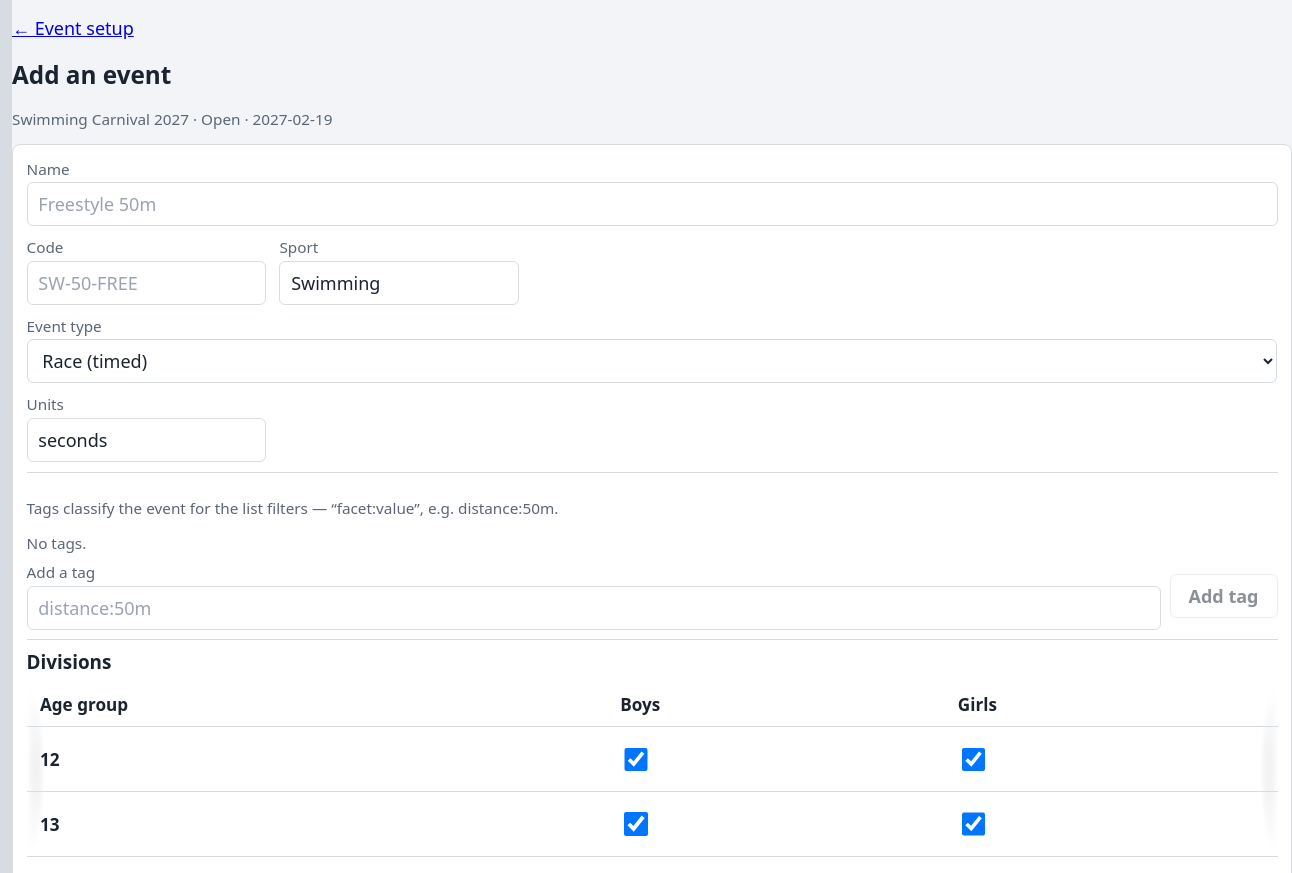
Test: NewEventScreen › reports a failed create as a failure, with nothing created
The image size is (1292, 873).
Type "Butterfly 50m" into the field labelled "Name" at (652, 204), box [26,182,1278,226]
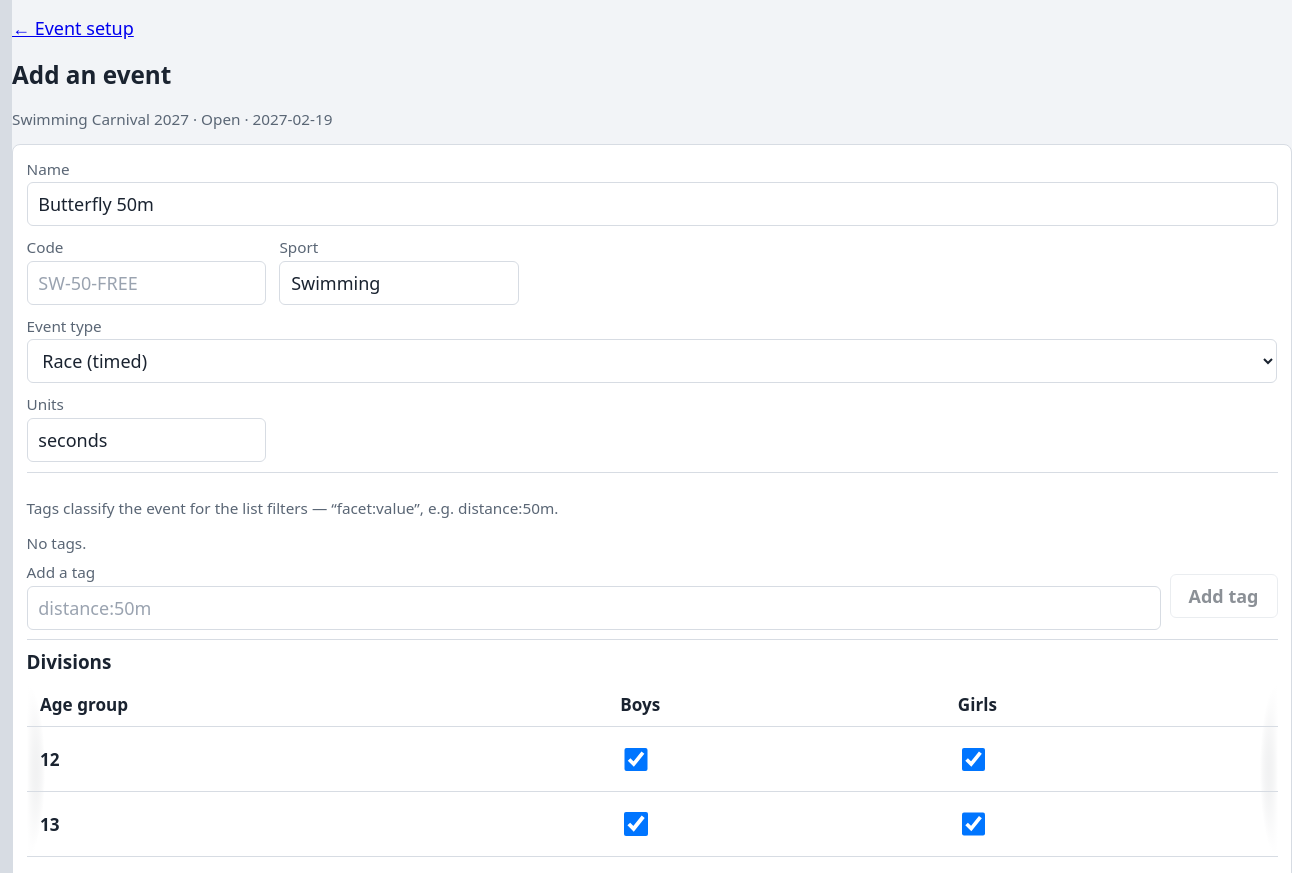
Type "SW-50-FLY" into the field labelled "Code" at (146, 283), box [26,261,266,305]
(page scrolled)
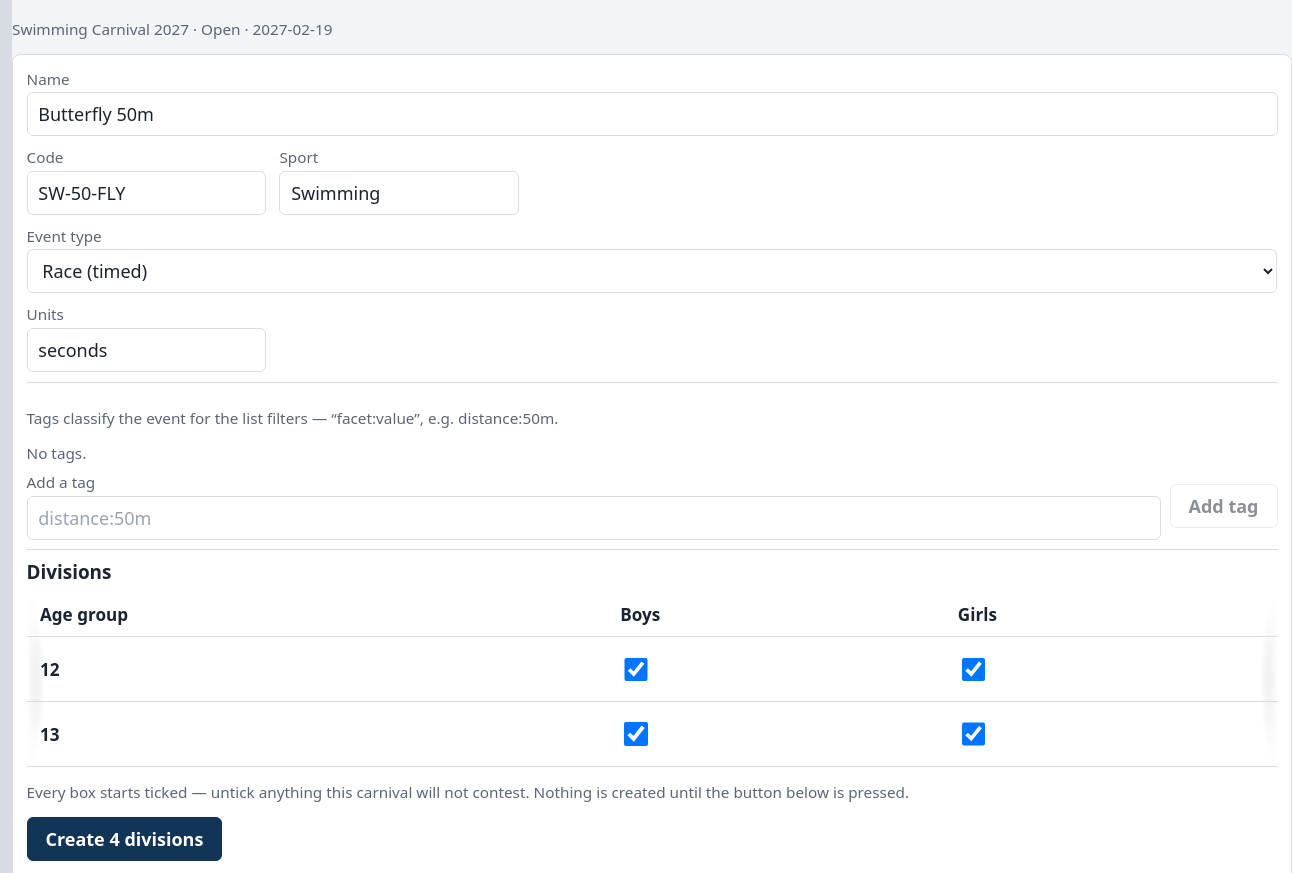
Click the button "Create 4 divisions" at (124, 840), box [26,818,222,862]
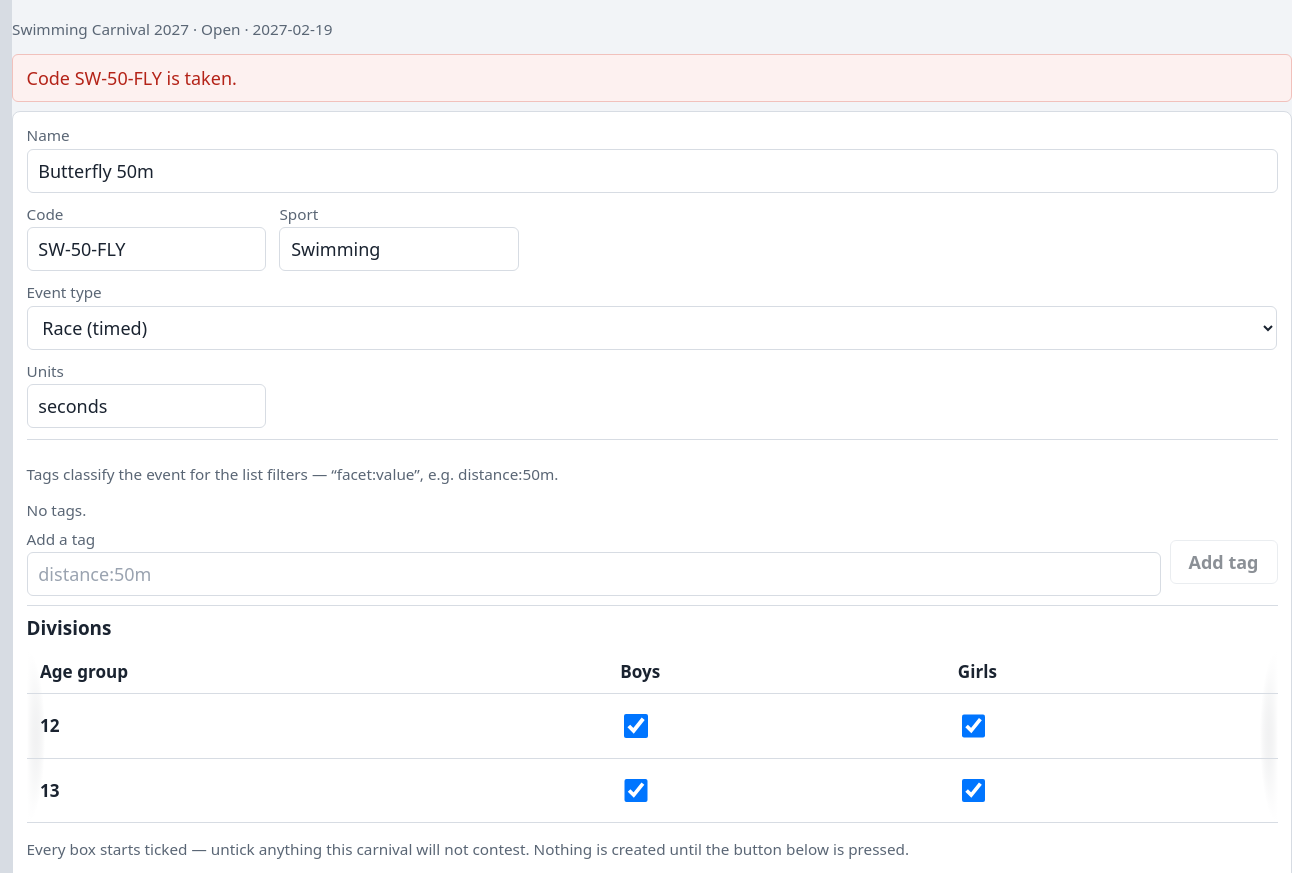
Expected: the field labelled "Code" is enabled, [26,227,266,271]
Expected: the message reads "Code SW-50-FLY is taken.", [26,66,237,90]
